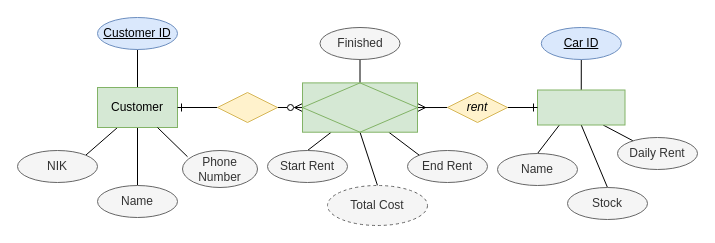
The diagram is 715 pixels wide and 243 high, and some of its shapes have lost their labels. The box of each missing label's shape, as (x1, y1, x2, y2) in pixels:
Booking: (302, 82, 418, 132)
Car: (536, 89, 625, 125)
make: (216, 92, 278, 122)
